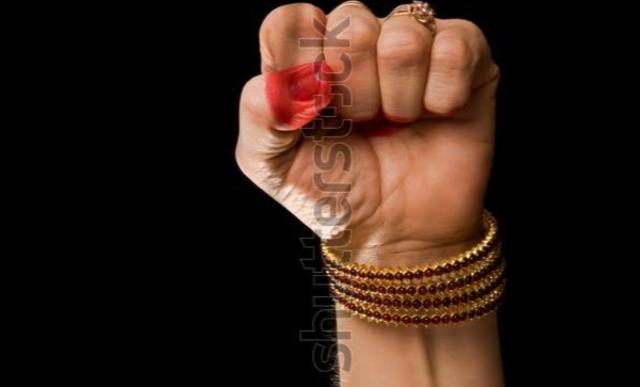mushti: (237, 0, 499, 262)
